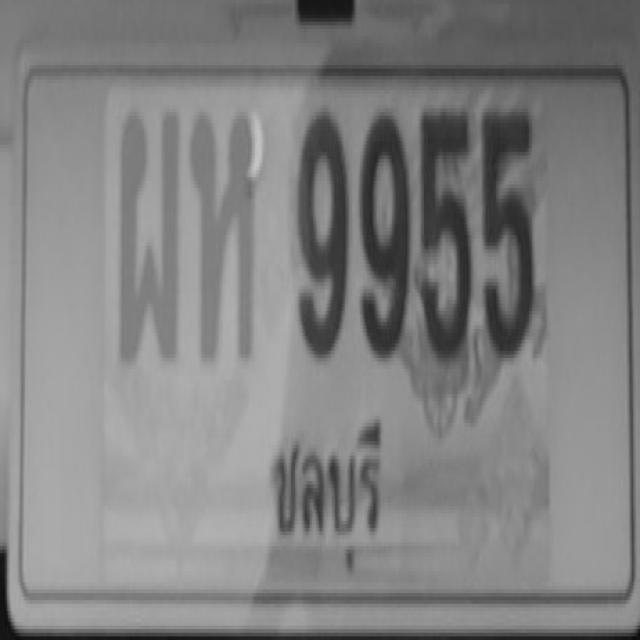37PhorPhueng: (108, 85, 186, 395)
5: (472, 77, 541, 401), (417, 81, 485, 387)
50HorHeep: (189, 86, 255, 383)
9: (286, 68, 354, 388), (356, 79, 416, 380)
Chonburi: (254, 389, 402, 592)
